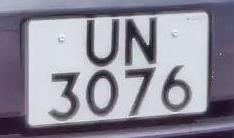0: (82, 67, 123, 122)
3: (43, 63, 86, 127)
6: (159, 62, 197, 117)
7: (120, 64, 160, 120)
N: (121, 12, 162, 73)
U: (79, 14, 125, 73)
